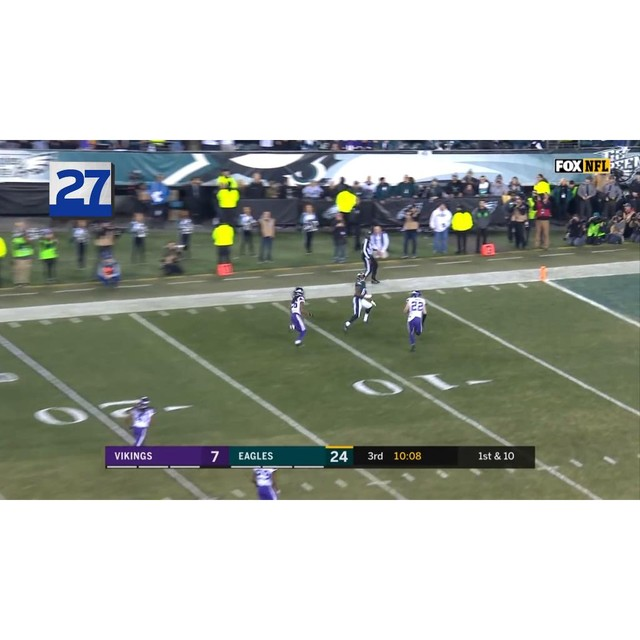american-football-player: (343, 272, 376, 332), (124, 395, 158, 446), (403, 290, 428, 352), (289, 287, 312, 347), (250, 466, 281, 499)
referee: (360, 228, 383, 285)
